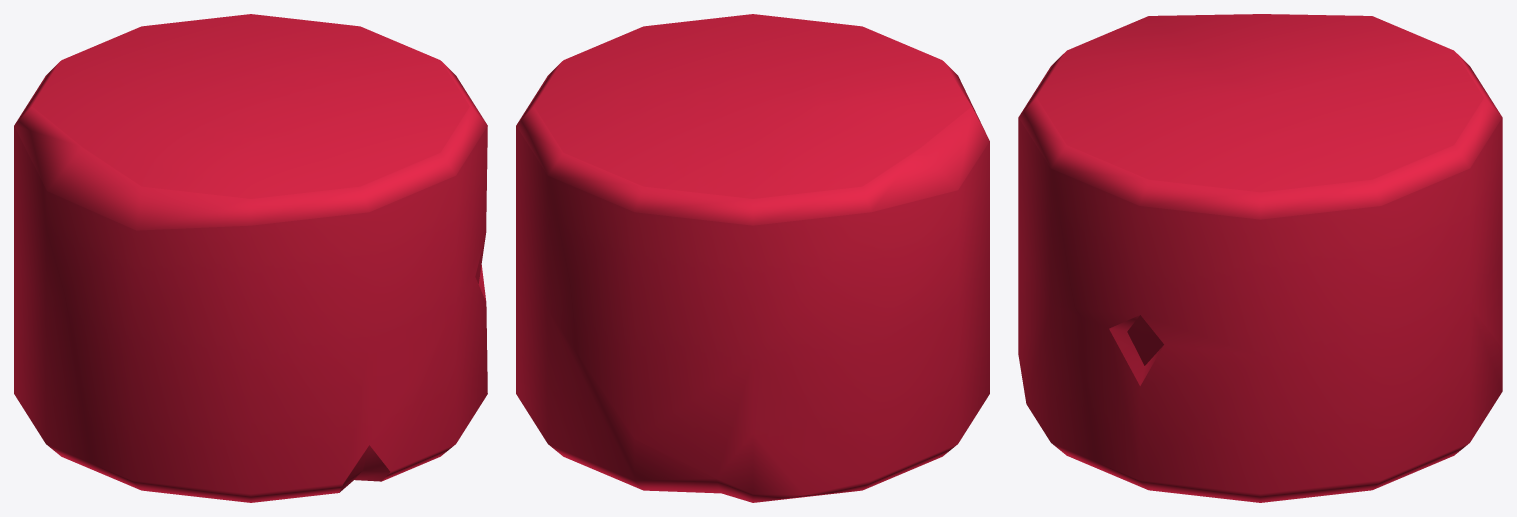
The model's file is pillar_stone2_red.fbx.
3 renders of one model, left to right at view 1: azimuth 30°, elevation 25°; view 2: azimuth 150°, elevation 25°; view 3: azimuth 270°, elevation 25°, orthographic. The views are drawn at different scales.
Parts seen in each view (by area): view 1: pillar_stone2_red; view 2: pillar_stone2_red; view 3: pillar_stone2_red.
Part boxes in pixels (x1,y1,x2,y2): pillar_stone2_red: (14, 14, 487, 502); pillar_stone2_red: (516, 14, 989, 502); pillar_stone2_red: (1018, 14, 1502, 502).
Size of the model in its own units: 150 by 106 by 150.
